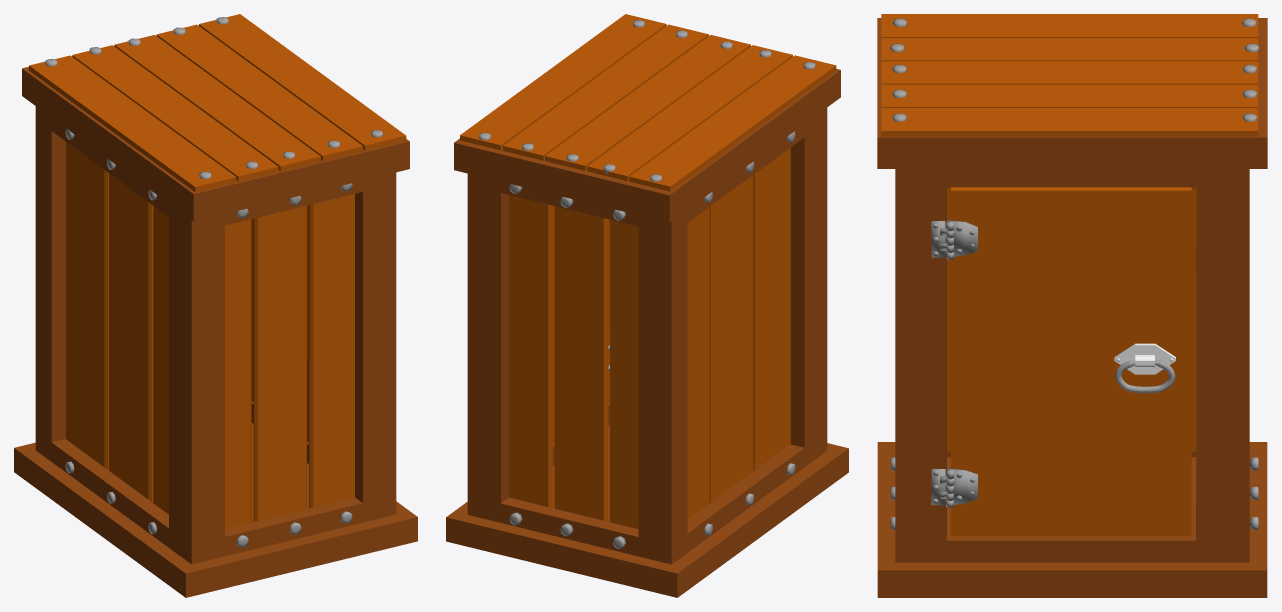
Rendered from Nightstand.fbx.
3 views of the same model, side by side, from view 1: azimuth 30°, elevation 25°; view 2: azimuth 150°, elevation 25°; view 3: azimuth 270°, elevation 25° (orthographic). The views are drawn at different scales.
Parts seen in each view (by area): view 1: Nightstand_LOD0; view 2: Nightstand_LOD0; view 3: Nightstand_LOD0.
Boxes of the visible parts, <box> form: Nightstand_LOD0: <box>14,14,417,597</box>; Nightstand_LOD0: <box>446,14,848,597</box>; Nightstand_LOD0: <box>877,14,1267,597</box>.
Size of what is drawn, in the model's own units: 200 by 338 by 257.
